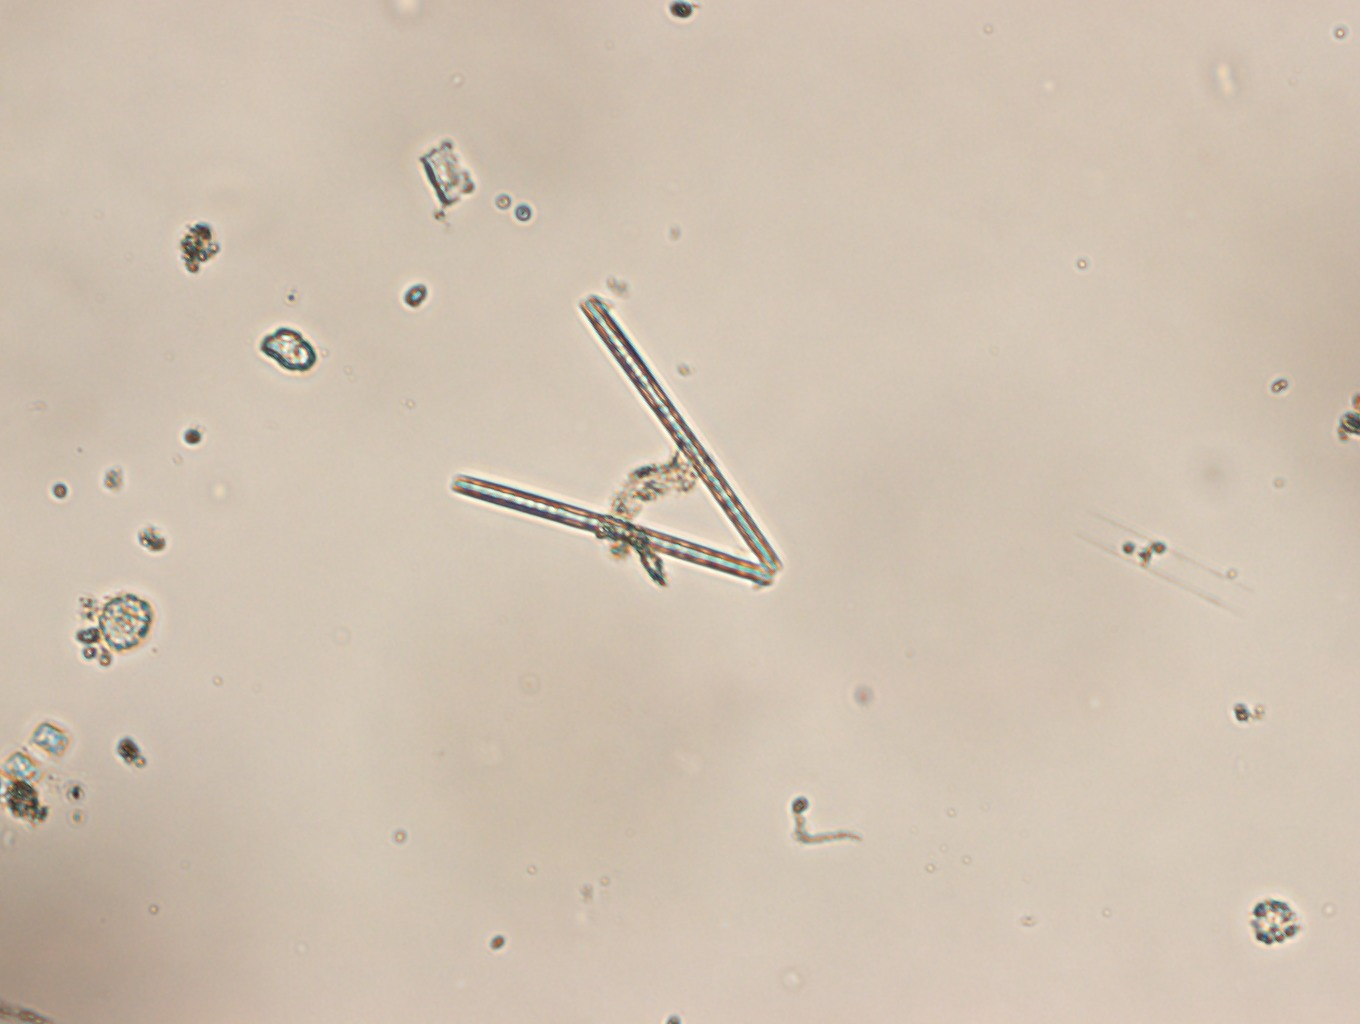thalassionema frauenfeldii: (450, 293, 784, 591)
